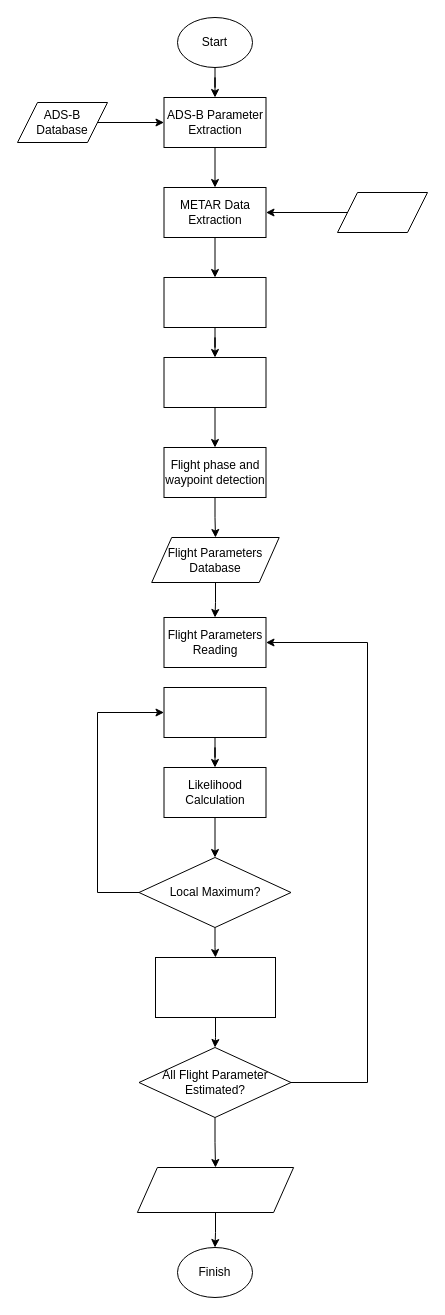
Image size: 445x1315. Some labels were removed from this diagram. The box of each missing label's shape, as (x1, y1, x2, y2) in pixels:
Combining ADS-B and METAR: (163, 276, 266, 328)
Flight Performance Parameter Database: (136, 1166, 294, 1212)
K-S Test on Distribution Model: (154, 956, 276, 1018)
METAR Database: (336, 192, 428, 232)
Probability Distribution Function: (163, 686, 266, 738)
TAS, CAS, and Mach Number Data Creation: (163, 356, 266, 408)
